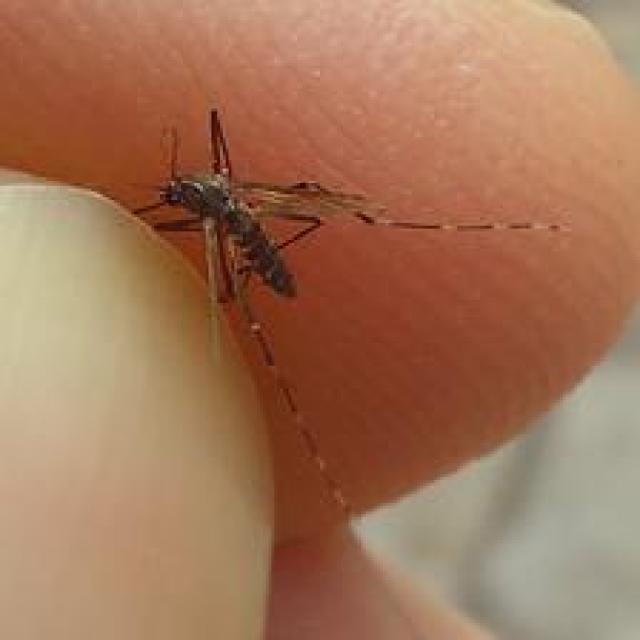Aedes albopictus: (127, 106, 567, 520)
